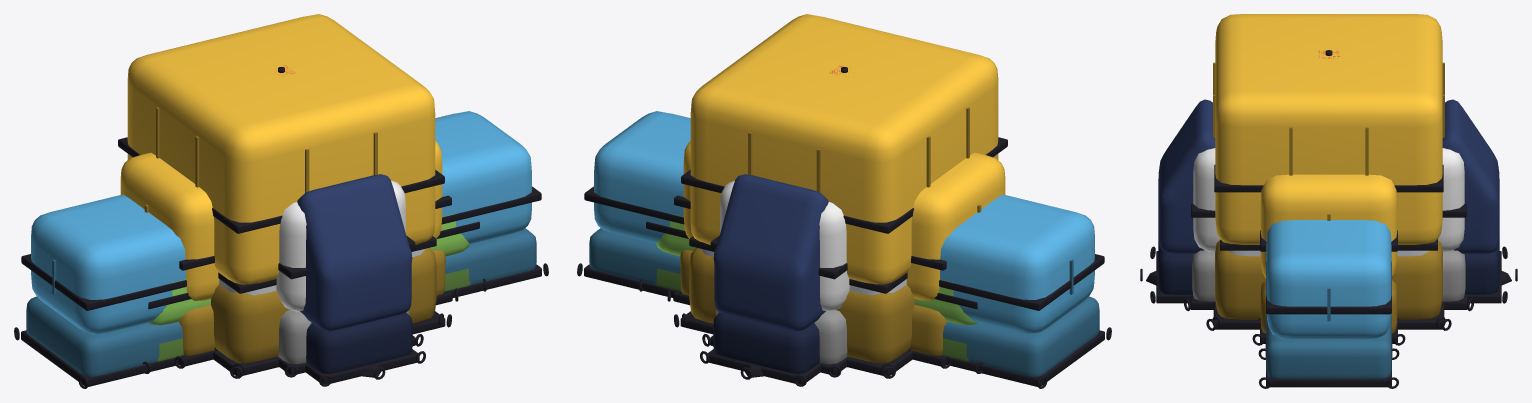
File: bunkers.glb
3 views of the same model, side by side, from view 1: azimuth 30°, elevation 25°; view 2: azimuth 150°, elevation 25°; view 3: azimuth 270°, elevation 25° (orthographic). The views are drawn at different scales.
Visible parts, largest first — view 1: bunker:box-2x2x2.2-ffc93c, bunker:box-4.4x1.1x1.2-58b4e8, bunker:profile-z-0.9-2b3a67-13ag5s6, bunker:box-2.6x1.2x1.5-ffc93c, bunker:box-1.2x2.4x1.5-eeeeee, bunker:box-3.2x1.1x1-9be564, bunker:box-1.9x1.9x1.25-d7dde4; view 2: bunker:box-2x2x2.2-ffc93c, bunker:box-4.4x1.1x1.2-58b4e8, bunker:profile-z-0.9-2b3a67-13ag5s6, bunker:box-2.6x1.2x1.5-ffc93c, bunker:box-1.2x2.4x1.5-eeeeee, bunker:box-3.2x1.1x1-9be564, bunker:box-1.9x1.9x1.25-d7dde4; view 3: bunker:box-2x2x2.2-ffc93c, bunker:box-4.4x1.1x1.2-58b4e8, bunker:profile-z-0.9-2b3a67-13ag5s6, bunker:box-2.6x1.2x1.5-ffc93c, bunker:box-1.2x2.4x1.5-eeeeee, bunker:box-1.9x1.9x1.25-d7dde4.
Part boxes in pixels (left/top/right/bottom): bunker:box-2x2x2.2-ffc93c: left=118, top=14, right=451, bottom=378; bunker:box-4.4x1.1x1.2-58b4e8: left=14, top=111, right=548, bottom=388; bunker:profile-z-0.9-2b3a67-13ag5s6: left=297, top=174, right=425, bottom=386; bunker:box-2.6x1.2x1.5-ffc93c: left=120, top=141, right=458, bottom=368; bunker:box-1.2x2.4x1.5-eeeeee: left=276, top=180, right=423, bottom=377; bunker:box-3.2x1.1x1-9be564: left=143, top=213, right=486, bottom=373; bunker:box-1.9x1.9x1.25-d7dde4: left=218, top=236, right=443, bottom=373; bunker:box-2x2x2.2-ffc93c: left=674, top=14, right=1007, bottom=378; bunker:box-4.4x1.1x1.2-58b4e8: left=577, top=111, right=1111, bottom=388; bunker:profile-z-0.9-2b3a67-13ag5s6: left=700, top=174, right=828, bottom=386; bunker:box-2.6x1.2x1.5-ffc93c: left=667, top=141, right=1005, bottom=368; bunker:box-1.2x2.4x1.5-eeeeee: left=702, top=180, right=849, bottom=377; bunker:box-3.2x1.1x1-9be564: left=639, top=213, right=982, bottom=373; bunker:box-1.9x1.9x1.25-d7dde4: left=682, top=236, right=907, bottom=373; bunker:box-2x2x2.2-ffc93c: left=1206, top=14, right=1451, bottom=330; bunker:box-4.4x1.1x1.2-58b4e8: left=1259, top=220, right=1398, bottom=388; bunker:profile-z-0.9-2b3a67-13ag5s6: left=1150, top=99, right=1507, bottom=303; bunker:box-2.6x1.2x1.5-ffc93c: left=1252, top=174, right=1405, bottom=345; bunker:box-1.2x2.4x1.5-eeeeee: left=1184, top=148, right=1473, bottom=311; bunker:box-1.9x1.9x1.25-d7dde4: left=1212, top=239, right=1445, bottom=327.
Bounding box in the file's own units: 4.54 × 2.23 × 3.32.
